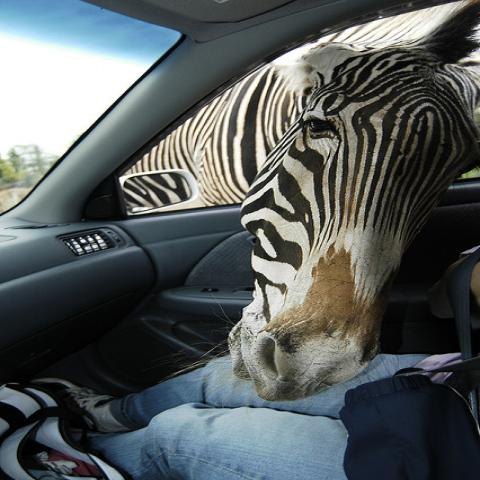car: (0, 2, 444, 397)
